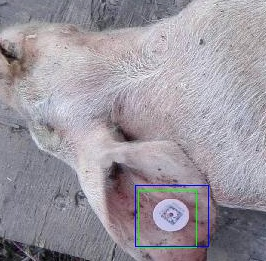text: (138, 190, 196, 247)
